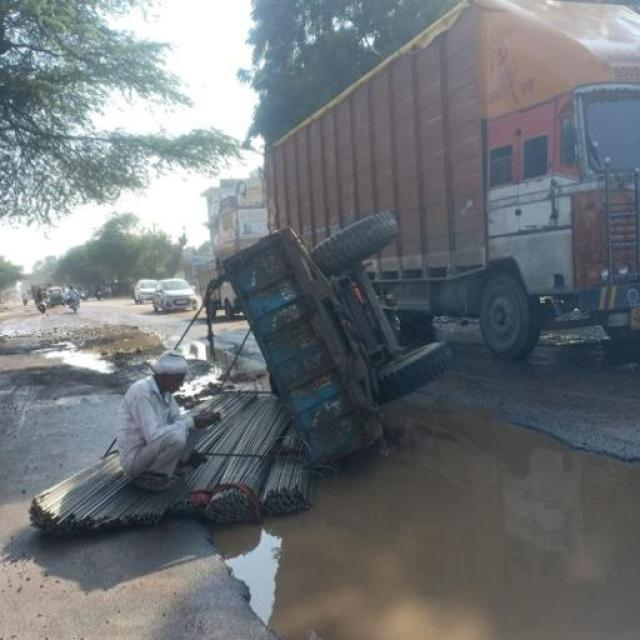puddle: (228, 515, 640, 640), (394, 421, 560, 540)
